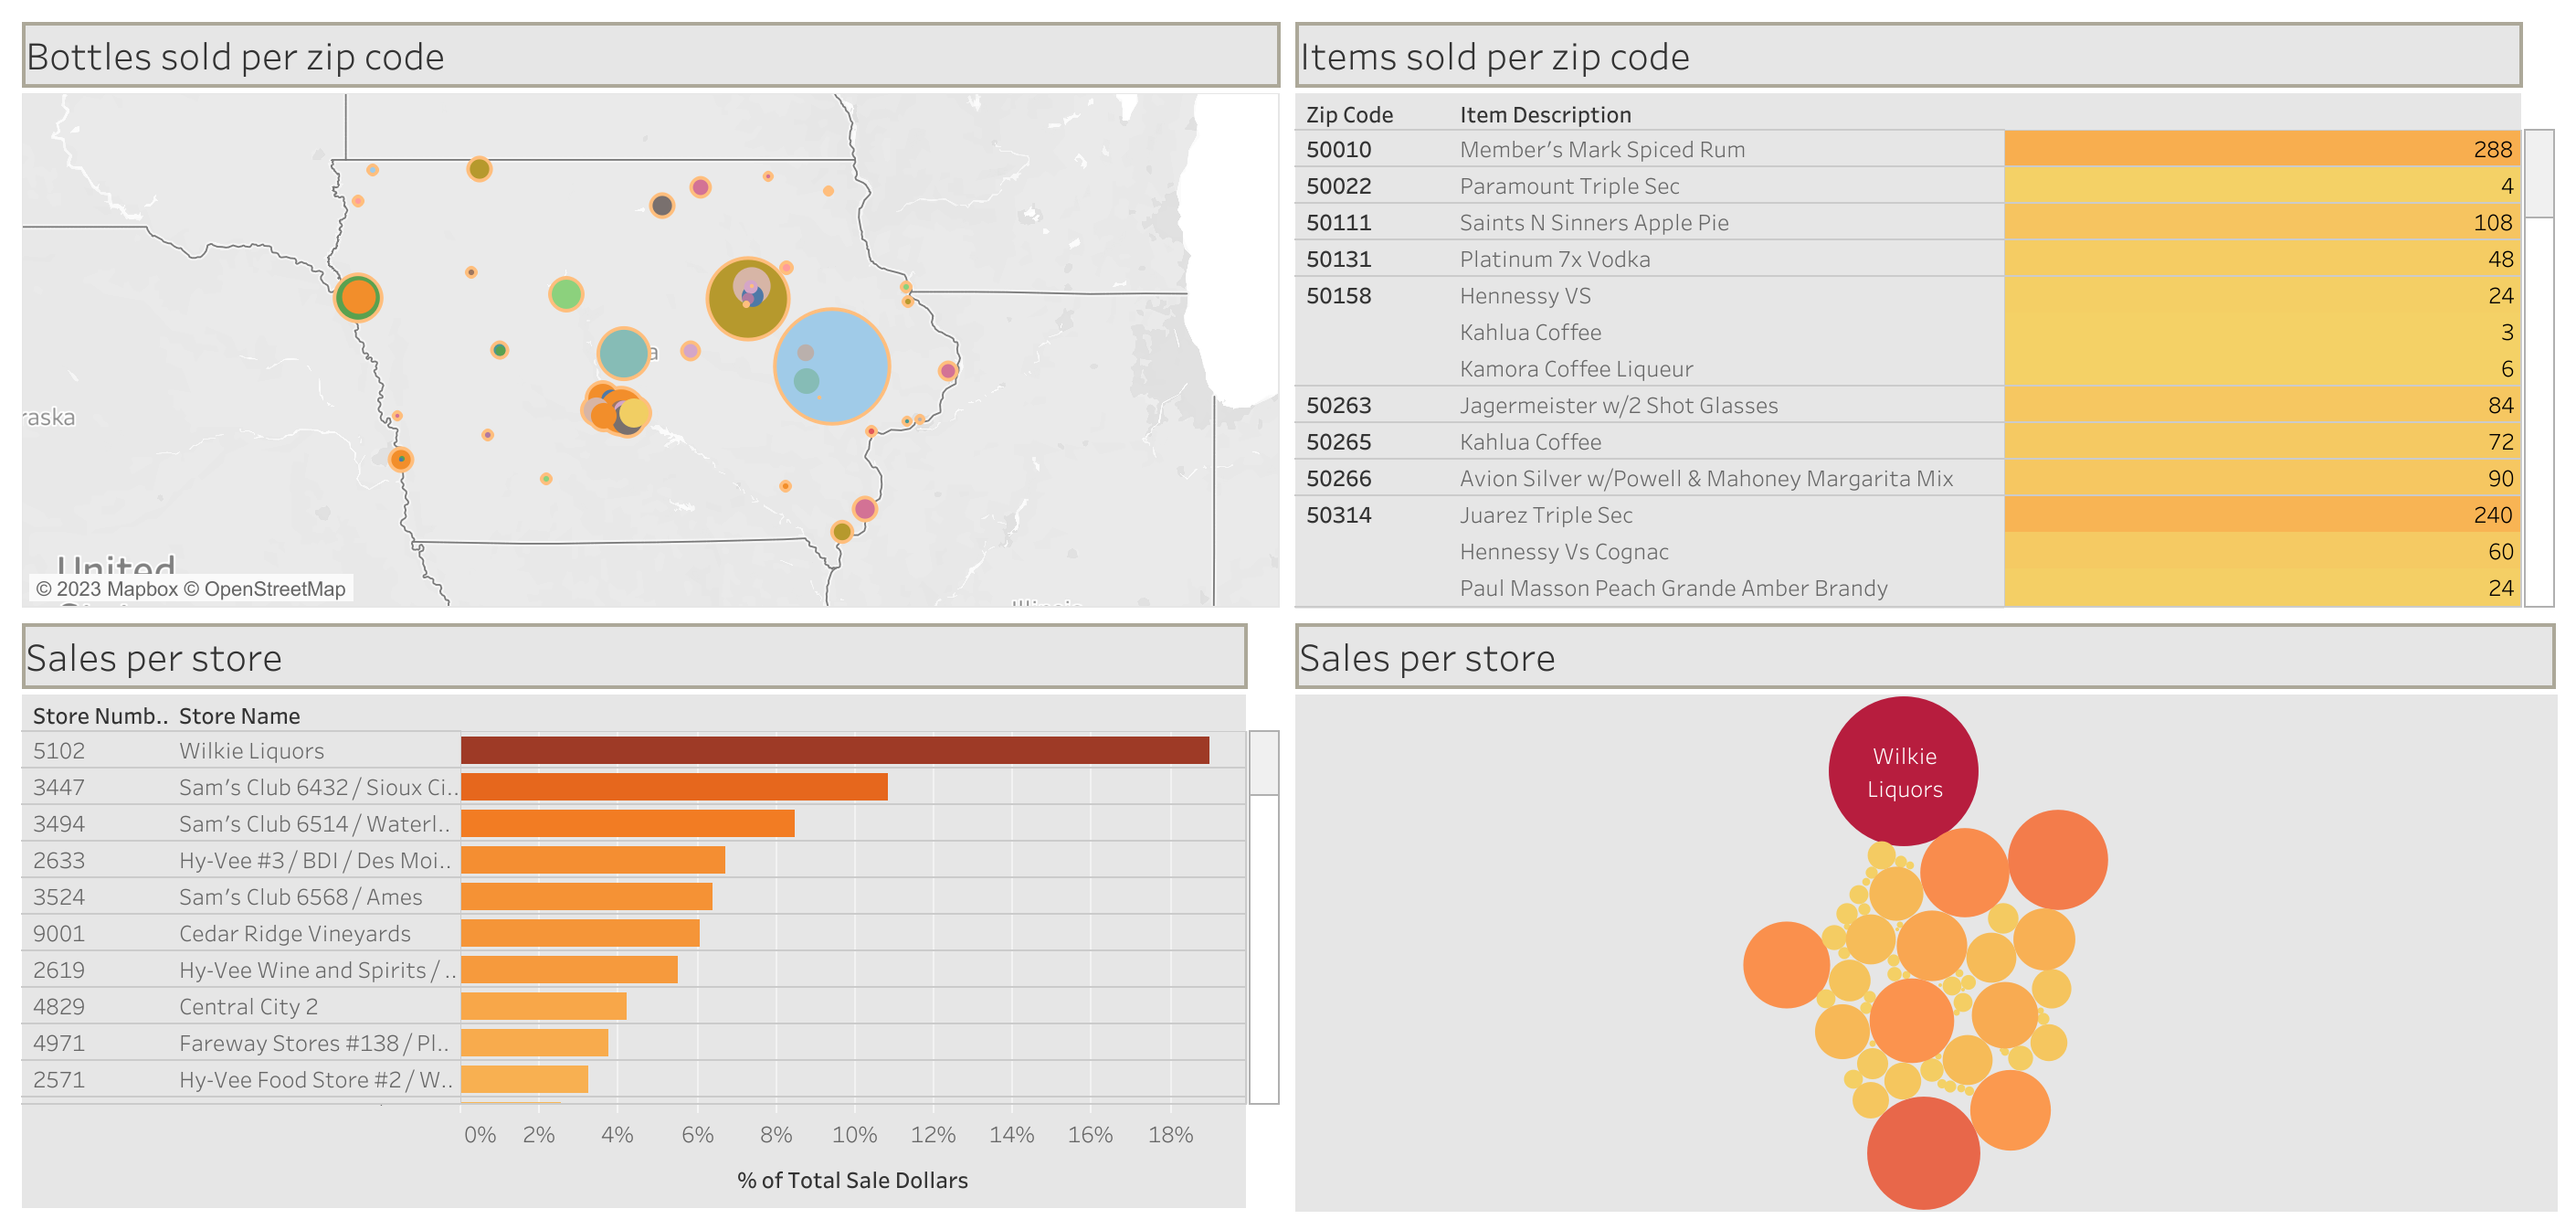

What the dashboard file says about the page in this screenshot:
{"tool":"tableau","page":{"name":"Sales dashboard","canvas":[1000,1000],"units":"permille","ordinal":0},"visuals":[{"type":"worksheet","title":"Bottles sold per Zip Code Map","mark":"Automatic","box":[6.5,9.9,493.1,490.1]},{"type":"worksheet","title":"Bottles sold per Zip Code","mark":"Square","rows":["zip_code","item_description"],"box":[499.6,9.9,493.9,490.1]},{"type":"worksheet","title":"Sales per store","mark":"Automatic","rows":["store_number","store_name"],"box":[6.5,500,493.1,490.1]},{"type":"worksheet","title":"Sales per store Bubble","mark":"Circle","box":[499.6,500,493.9,490.1]}]}

Visuals, with their boxes on the dashboard's canvas, which has no fixed pixel size, in thousandths of its width and height (x1, y1, x2, y2). These are canvas units, not pixel positions in the 2576x1230 screenshot, which may show the page scaled, cropped or inside an application window:
"Bottles sold per Zip Code Map" worksheet: crop(6, 10, 500, 500)
"Bottles sold per Zip Code" worksheet (Square marks): crop(500, 10, 994, 500)
"Sales per store" worksheet: crop(6, 500, 500, 990)
"Sales per store Bubble" worksheet (Circle marks): crop(500, 500, 994, 990)
